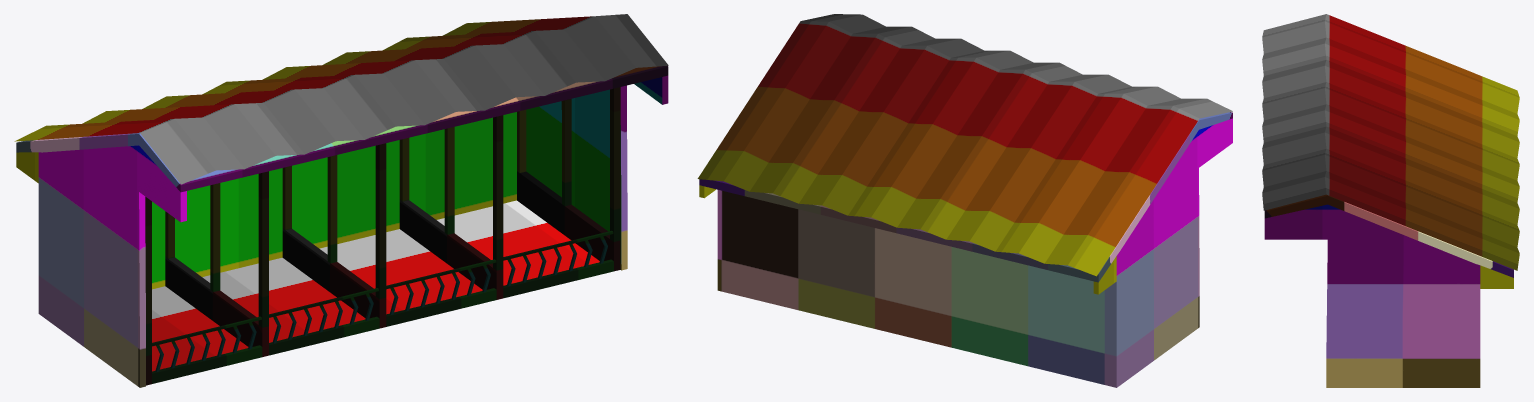
Rendered from WalledShedFullUV.fbx.
The picture shows the model from 3 angles, left to right: view 1: azimuth 30°, elevation 25°; view 2: azimuth 150°, elevation 25°; view 3: azimuth 270°, elevation 25°; orthographic projection. The views are drawn at different scales.
Parts seen in each view (by area): view 1: Shed; view 2: Shed; view 3: Shed.
Boxes of the visible parts, x1=… form: Shed: x1=14, y1=14, x2=668, y2=387; Shed: x1=697, y1=14, x2=1232, y2=387; Shed: x1=1262, y1=14, x2=1519, y2=387.
Size of the model in its own units: 15.8 by 8.1 by 9.53.
